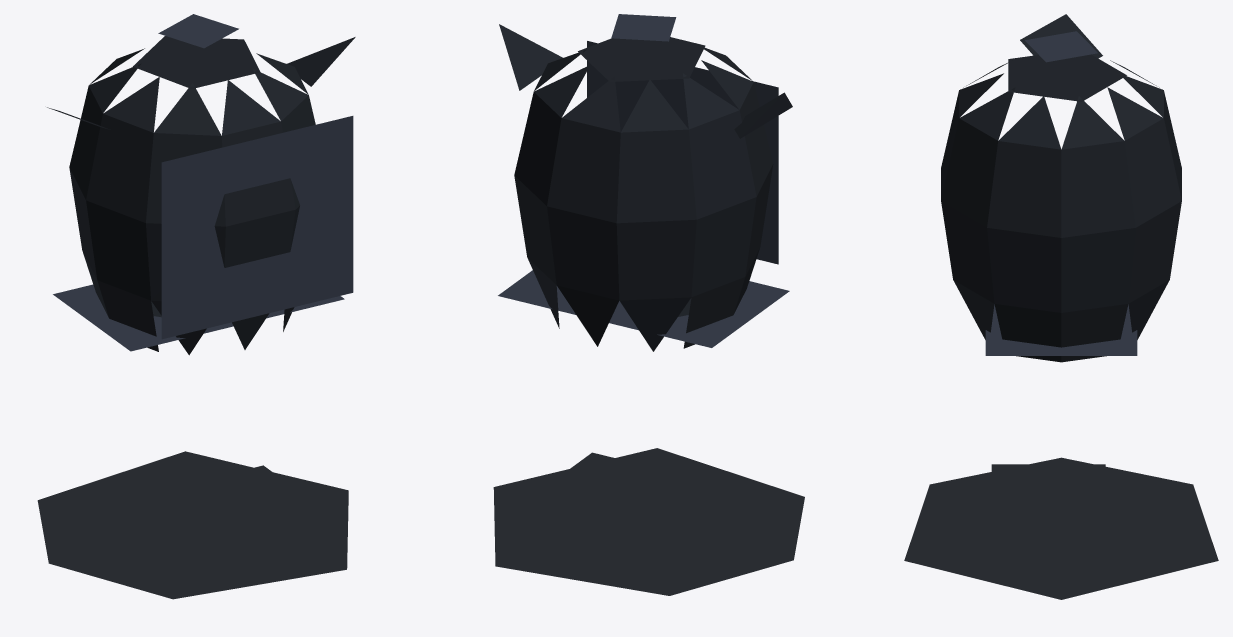
The model's file is neutronium-mesh.lod.glb.
3 views of the same model, side by side, from view 1: azimuth 30°, elevation 25°; view 2: azimuth 150°, elevation 25°; view 3: azimuth 270°, elevation 25° (orthographic). The views are drawn at different scales.
Parts seen in each view (by area): view 1: m; view 2: m; view 3: m.
Part boxes in pixels (box(x1,y1,x2,y2)): m: box(37, 14, 355, 599); m: box(493, 14, 804, 595); m: box(904, 14, 1218, 599).
Size of the model in its own units: 0.3318 by 0.4248 by 0.2398.
